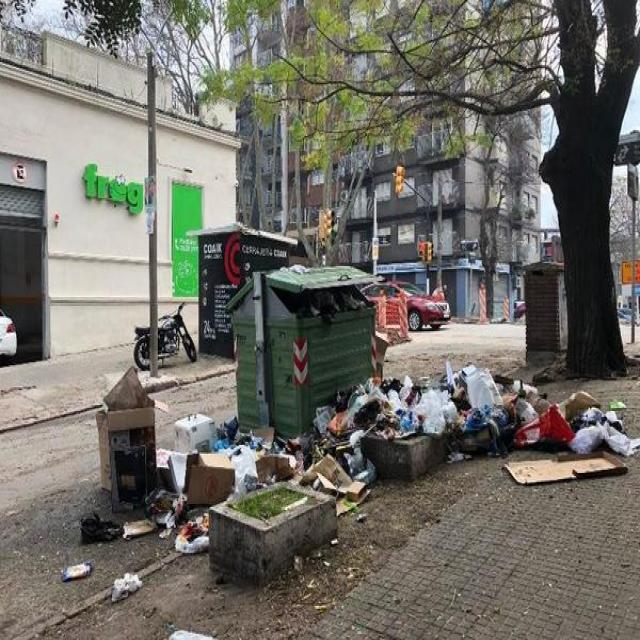garbage: (366, 355, 640, 495), (75, 360, 158, 550), (158, 410, 300, 510), (302, 381, 364, 516), (290, 282, 377, 326), (160, 512, 214, 561), (108, 562, 148, 610), (56, 548, 98, 592), (166, 617, 218, 640)
